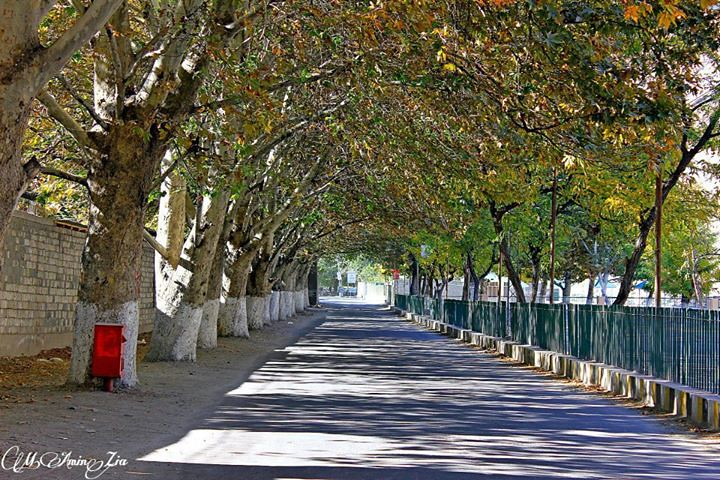straightRoad: (271, 281, 466, 469)
